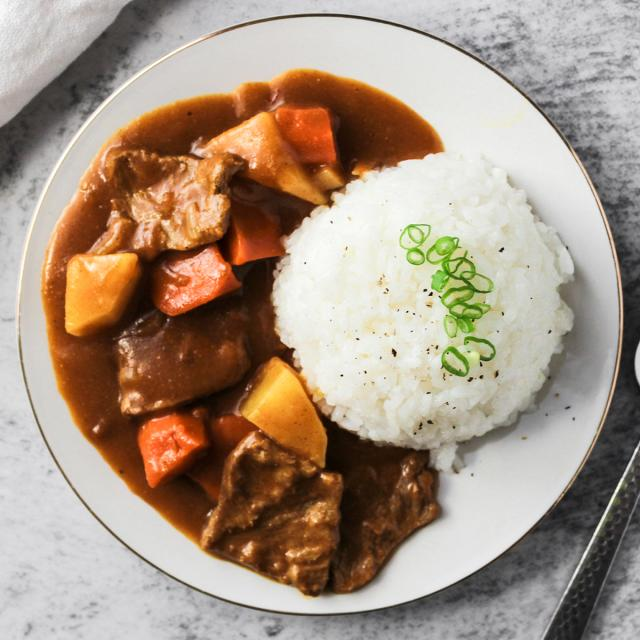Curry: (18, 12, 625, 616)
Protein: (200, 438, 442, 592), (75, 122, 236, 252)
Vegetable: (401, 216, 499, 380), (61, 255, 232, 334)
